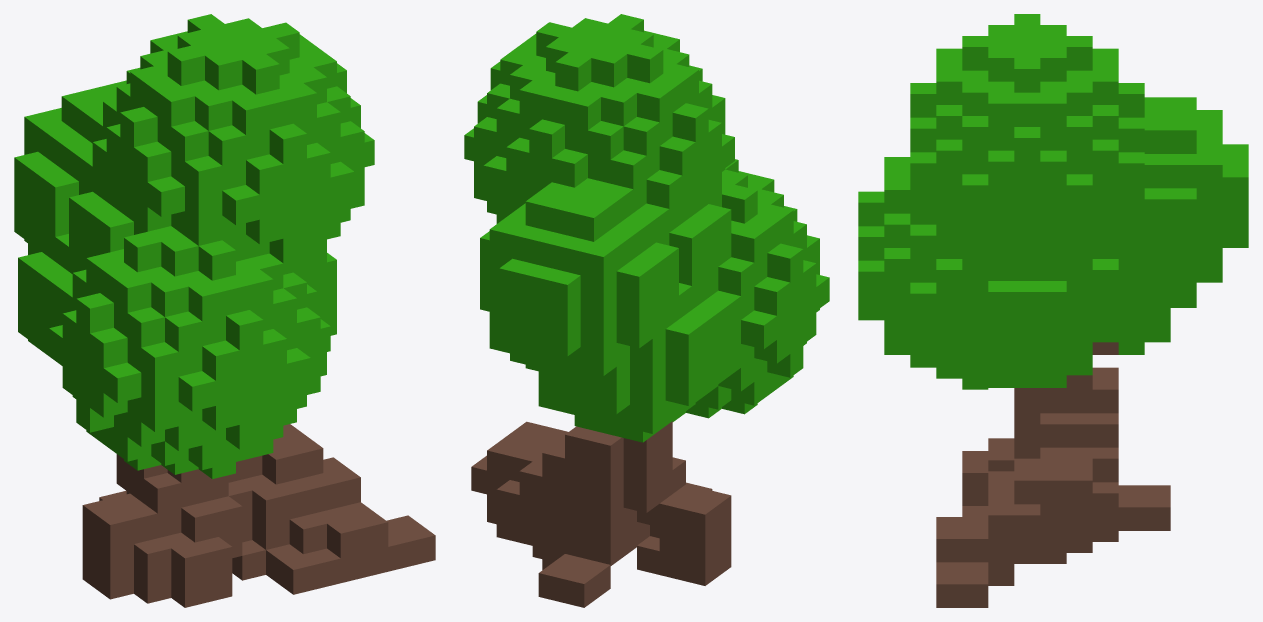
Rendered from bush0.obj.
3 views of the same model, side by side, from view 1: azimuth 30°, elevation 25°; view 2: azimuth 150°, elevation 25°; view 3: azimuth 270°, elevation 25° (orthographic). The views are drawn at different scales.
Size of the model in its own units: 14 by 21 by 15.
Materials: 1 (1 with a texture image).
